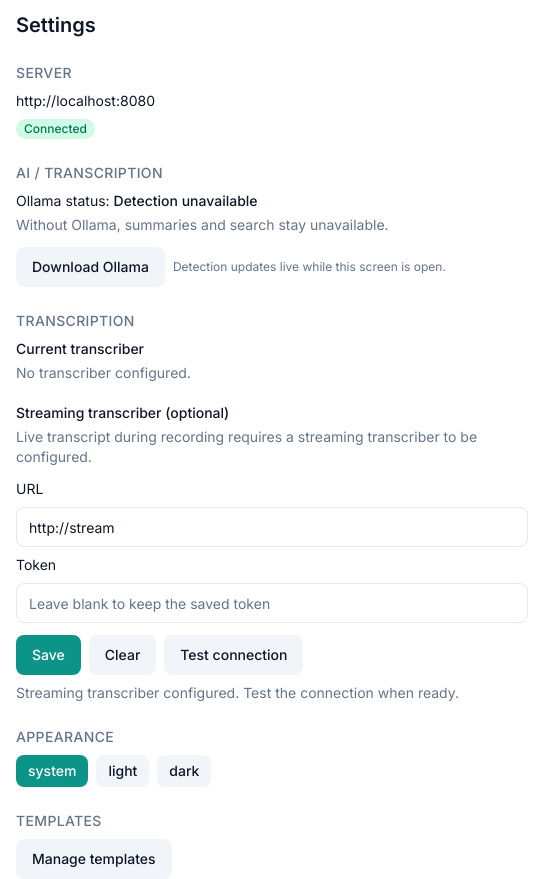
Scenario: SettingsScreen › renders the distinct streaming connection result 0
What coordinates should you click on to do the following:
click the button "Test connection"
I would click on:
 (234, 655)
Its box is x1=164 y1=635 x2=304 y2=675.
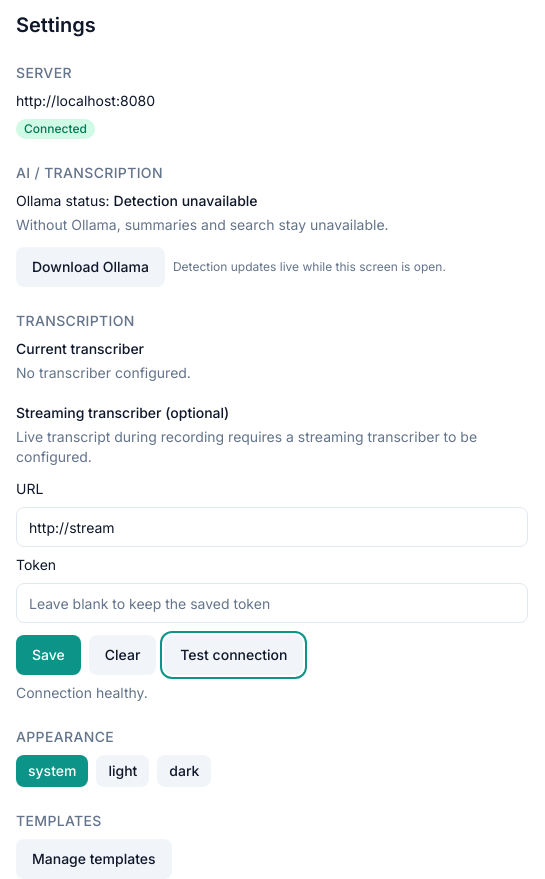
Expected: the text "Connection healthy." is shown, x1=16 y1=684 x2=148 y2=701
